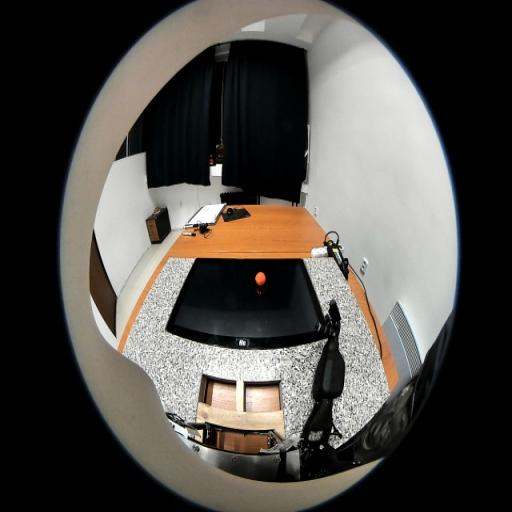Orange: (255, 272, 266, 286)
RightHand: (328, 321, 341, 340)
